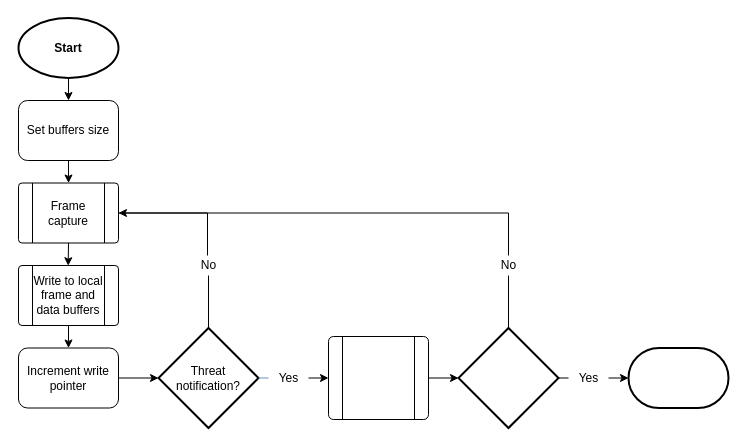
Image size: 746x446. Some labels were removed from this diagram. Here are the shapes that lost their labels. From the top down, the centre of each, then its label:
point 378,378: Send frame and data buffers to cloud and database
point 508,377: ShutDown signal?
point 678,377: End
